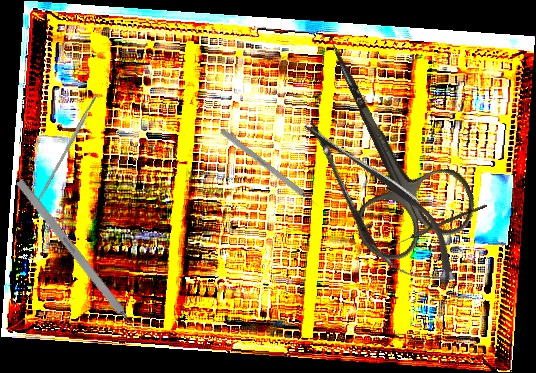Hook Surgical: (15, 178, 149, 345), (219, 128, 325, 212)
Iris Scissors: (280, 16, 485, 272)
Micro Scissor: (281, 100, 474, 308)
Scalpel Handle: (35, 94, 100, 203)
Surgical Spoon: (384, 201, 488, 252)
